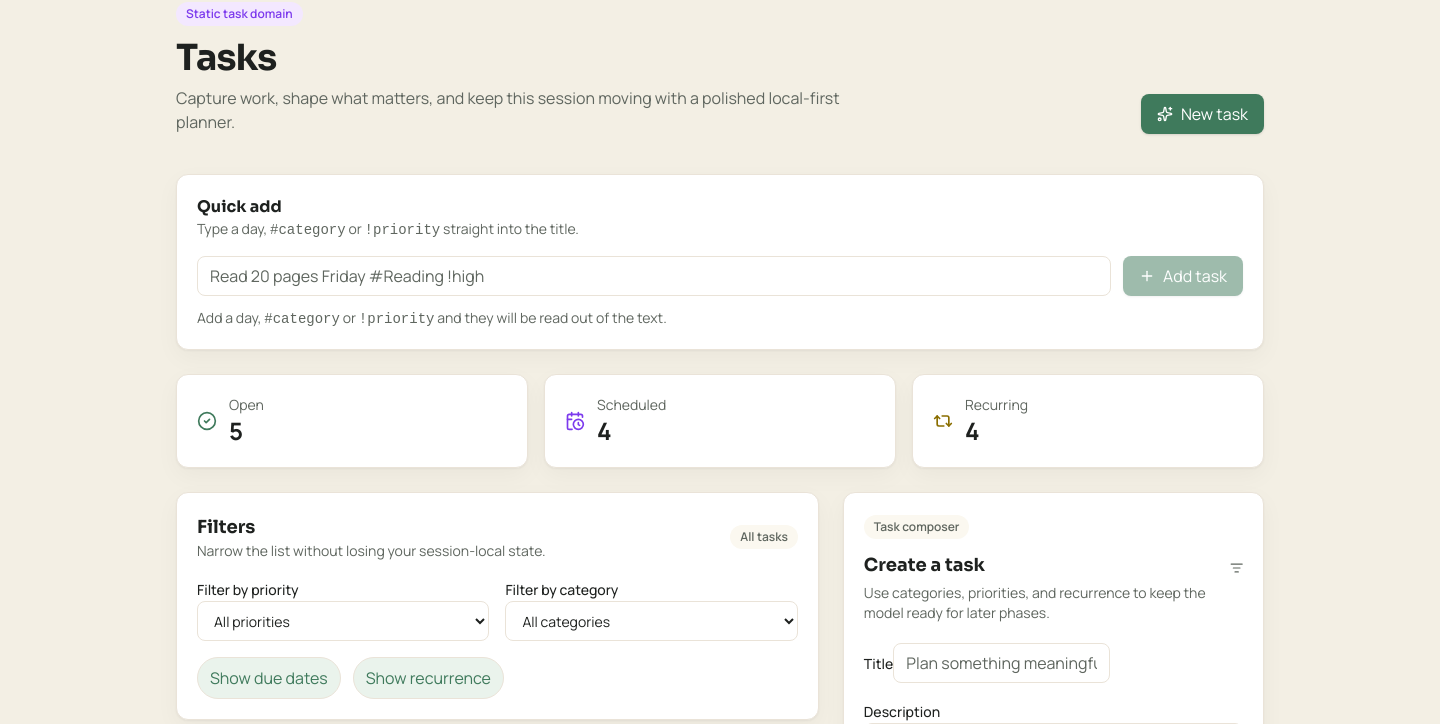
Test: TasksPage — filtering › uses singular copy for a single match
This screenshot has width=1440, height=724.
Select "Reading" in the dropdown labelled "Filter by category": (652, 621) [505,601,798,641]
(page scrolled)
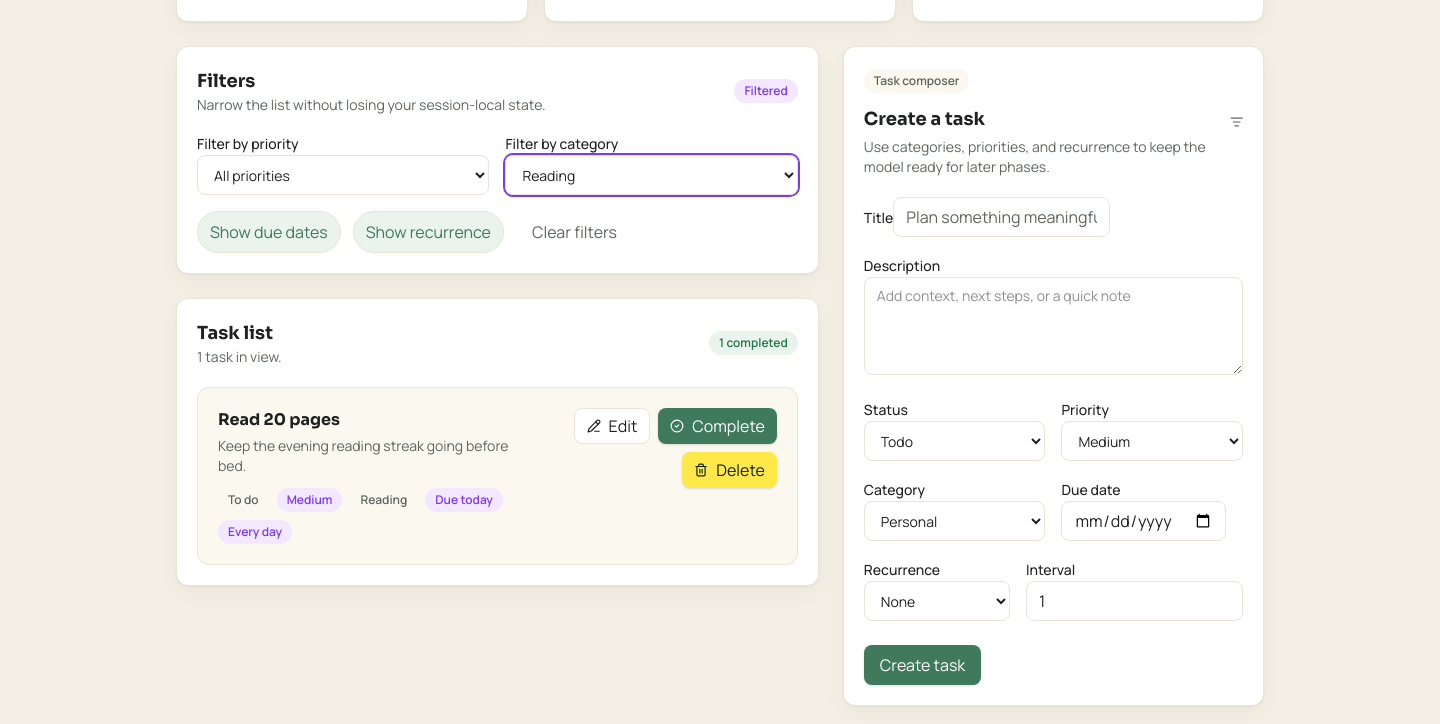
Expected: the text "1 task in view." is shown, [197,347,282,367]
